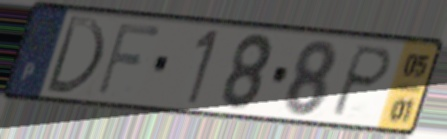1: (185, 28, 222, 108)
8: (279, 38, 339, 119), (217, 31, 274, 113)
D: (41, 13, 106, 98)
F: (93, 20, 166, 99)
P: (326, 43, 396, 120)
